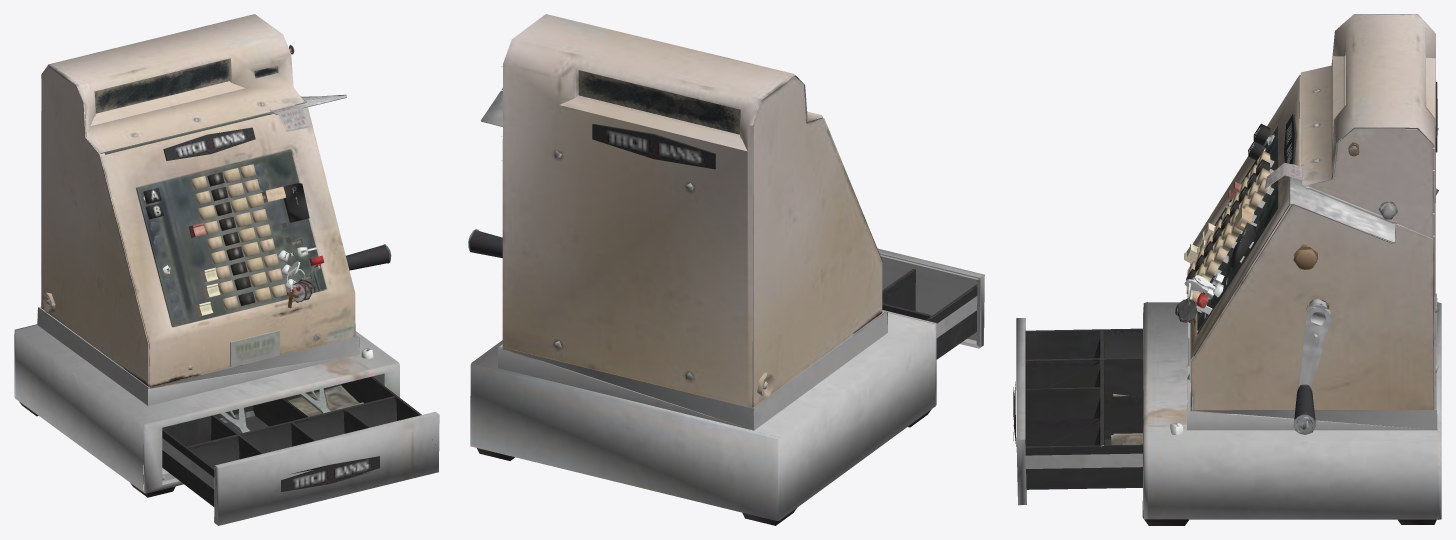
Rendered from CashRegister_01.glb.
3 renders of one model, left to right at view 1: azimuth 30°, elevation 25°; view 2: azimuth 150°, elevation 25°; view 3: azimuth 270°, elevation 25°, orthographic. The views are drawn at different scales.
Visible parts, largest first — view 1: CashRegister_01_body, CashRegister_011_drawer; view 2: CashRegister_01_body, CashRegister_011_drawer; view 3: CashRegister_01_body, CashRegister_011_drawer.
Part boxes in pixels (x1,y1,x2,y2): CashRegister_01_body: (14,14,399,497); CashRegister_011_drawer: (162,376,439,525); CashRegister_01_body: (468,14,936,525); CashRegister_011_drawer: (878,248,984,359); CashRegister_01_body: (1142,14,1441,525); CashRegister_011_drawer: (1013,318,1142,505).
Size of the model in its own units: 0.599 by 0.6219 by 0.6229.
Materials: 2 (2 with a texture image).
